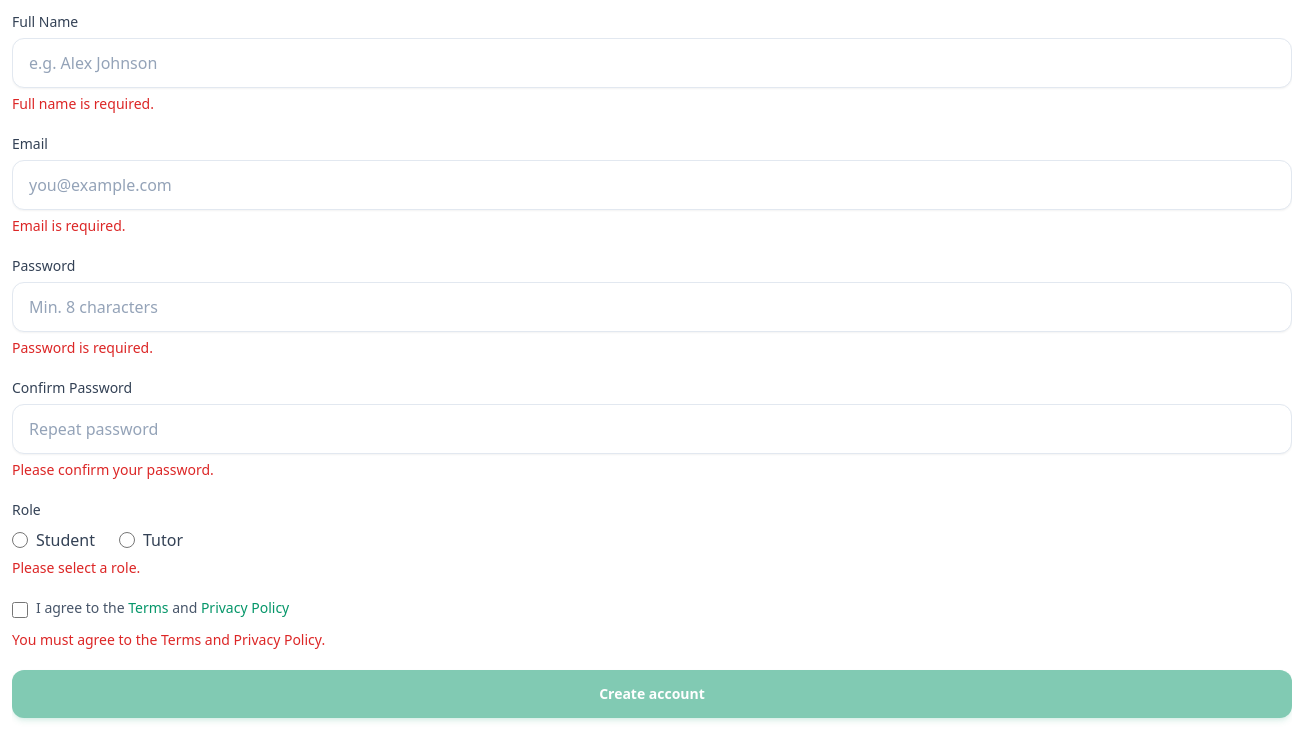
RegisterForm › shows name error when name is only 1 character (NFR4)
Type "A" into the field labelled "Full Name" at point(652, 63), box [12, 38, 1292, 88]
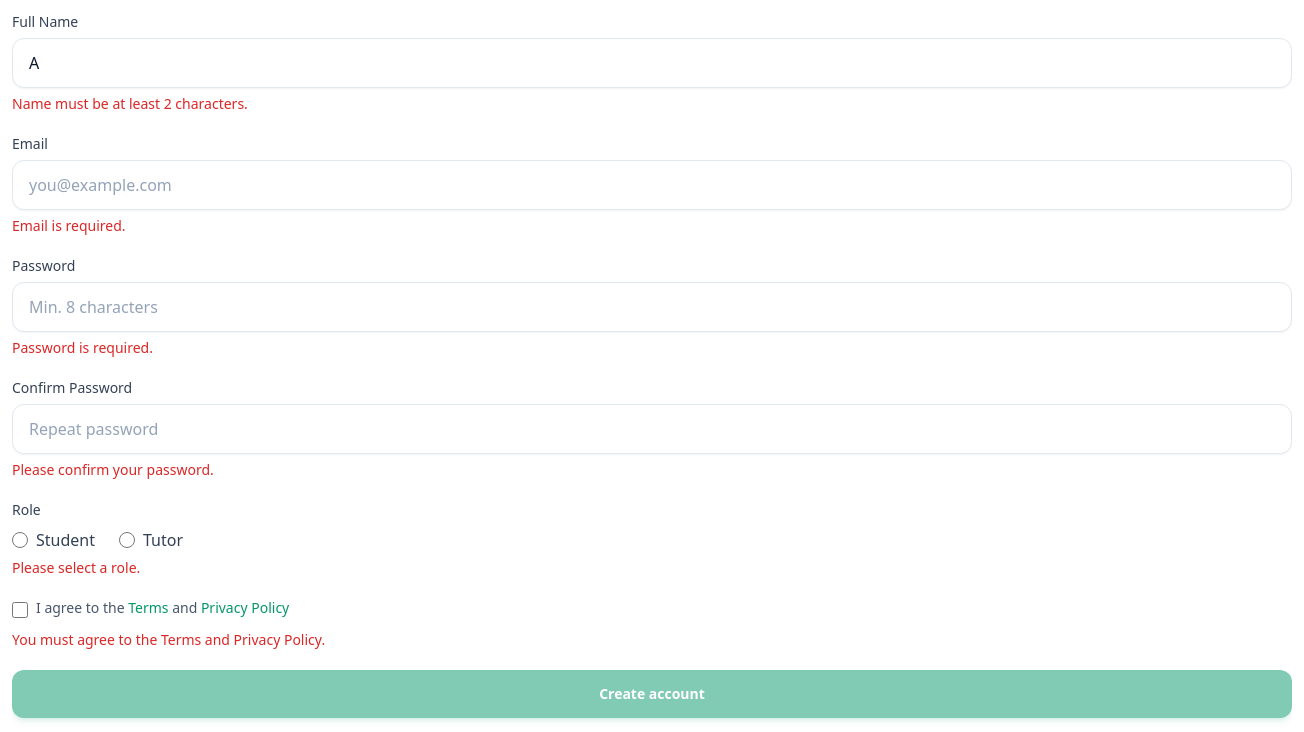
Expected: the text "Name must be at least 2 characters." is shown, [12, 94, 248, 113]
